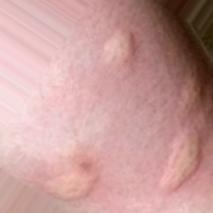Mosquito: (157, 125, 202, 194), (95, 25, 140, 75), (44, 170, 99, 201), (179, 78, 202, 110)
